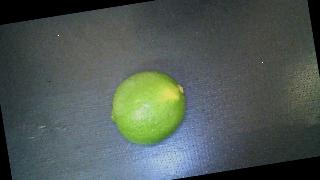EXPORTACION: (105, 66, 192, 150)
